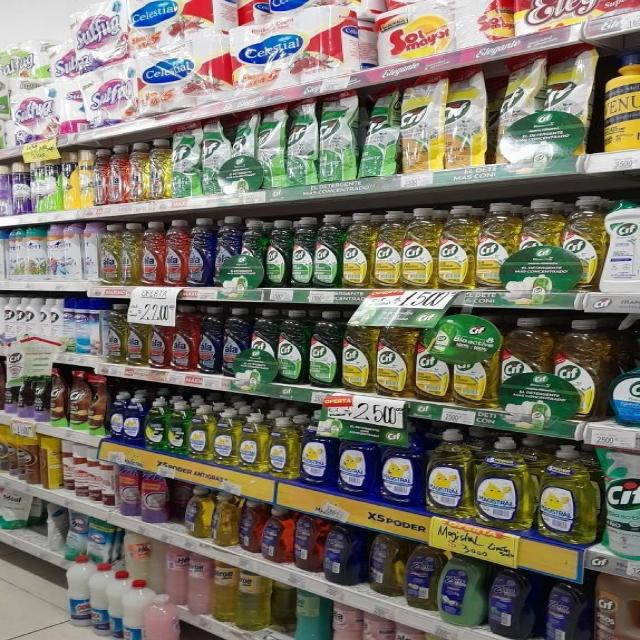ala_conc_amarillo: (103, 302, 126, 364), (126, 304, 148, 367), (100, 223, 120, 285), (121, 222, 140, 286)
ala_conc_azul: (223, 306, 248, 378), (188, 217, 213, 288), (198, 305, 222, 376), (215, 216, 237, 288)
ala_conc_rojo: (171, 304, 197, 372), (164, 219, 188, 287), (141, 220, 163, 286), (150, 305, 170, 370), (108, 144, 127, 204), (94, 147, 107, 206)
ala_crem_rosado: (144, 592, 179, 640), (188, 554, 211, 616), (166, 546, 187, 605), (393, 622, 422, 640)
cif_conc_bot_amarilla: (552, 317, 604, 423), (499, 316, 551, 420), (514, 198, 561, 293), (562, 195, 602, 294), (453, 324, 496, 408), (375, 310, 414, 398), (475, 203, 513, 290), (415, 311, 450, 402), (438, 206, 474, 290), (402, 207, 436, 289), (341, 310, 374, 392), (372, 210, 402, 288), (342, 212, 372, 289), (149, 138, 170, 201), (127, 142, 146, 202)
cif_conc_botella_verde: (308, 310, 339, 388), (276, 309, 306, 385), (249, 308, 276, 384), (314, 214, 341, 289), (239, 217, 264, 288), (265, 218, 289, 288), (290, 217, 313, 288)
cif_conc_sachet_amarillo: (494, 52, 556, 164), (444, 65, 488, 168), (400, 73, 442, 172)
cif_conc_sachet_verde: (359, 89, 398, 177), (286, 98, 317, 186), (200, 118, 228, 194), (172, 123, 200, 197)
heroe: (237, 569, 269, 631), (295, 590, 328, 640), (212, 562, 236, 624), (331, 601, 359, 640)
magistral_con_amarillo: (536, 444, 598, 544), (474, 436, 532, 529), (425, 428, 471, 516), (268, 416, 298, 479), (238, 412, 266, 472), (213, 408, 237, 466), (188, 404, 212, 460)
magistral_con_azul: (379, 429, 423, 507), (610, 322, 640, 428), (301, 417, 336, 488), (338, 438, 376, 498), (124, 392, 144, 444), (108, 391, 124, 441)
zorro: (487, 564, 534, 639), (439, 550, 484, 627), (368, 532, 402, 597), (405, 543, 437, 611), (213, 490, 237, 547), (239, 497, 262, 553)
